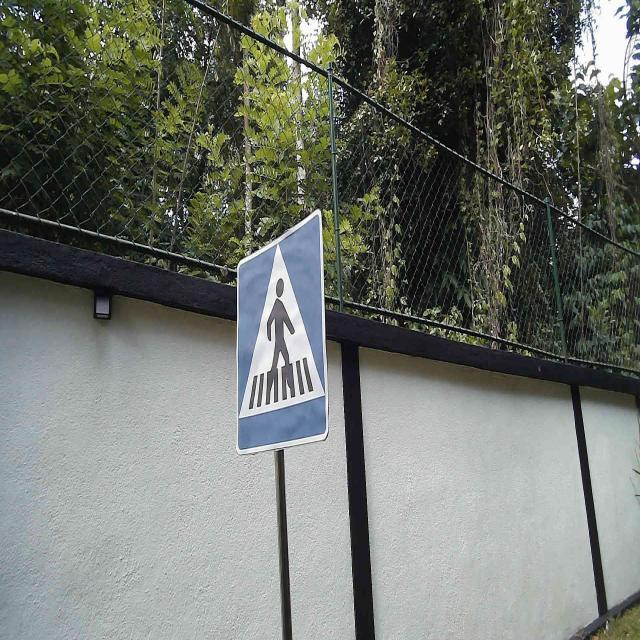crosswalk_sign: (234, 206, 332, 458)
